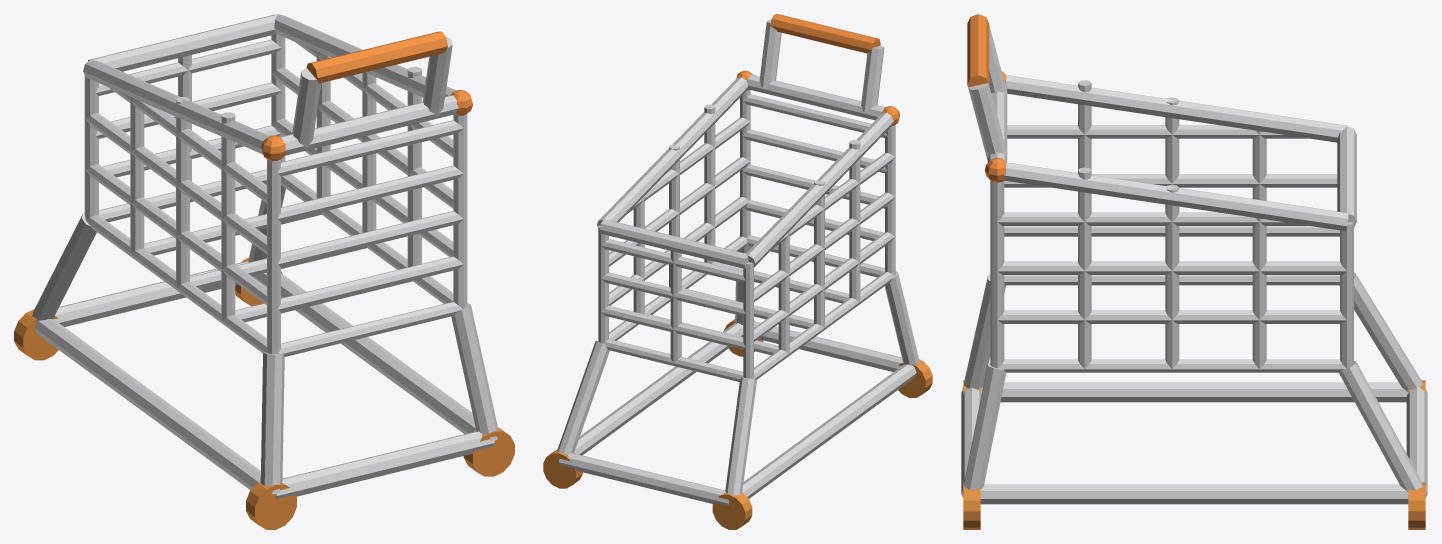
The model's file is Shopping Cart.fbx.
3 views of the same model, side by side, from view 1: azimuth 30°, elevation 25°; view 2: azimuth 150°, elevation 25°; view 3: azimuth 270°, elevation 25° (orthographic). The views are drawn at different scales.
Parts seen in each view (by area): view 1: ChL, ChR, ChBk, RimL, RimF, HBar, RimBk, SdH, FlS, SdH.001, Leg2, Leg3 (+35 smaller); view 2: ChL, RimL, RimR, ChR, ChF, RimF, Leg0, Leg1, RimBk, ChBk, HBar, SdH.001 (+35 smaller); view 3: ChR, ChL, RimR, RimL, FlS.001, SdH.003, SdH.004, SdH.005, SdH.002, FlS, SdH, Leg1 (+21 smaller).
Part boxes in pixels (x1=…): ChL: x1=35, y1=319, x2=260, y2=489; ChR: x1=253, y1=272, x2=475, y2=433; ChBk: x1=276, y1=431, x2=494, y2=499; RimL: x1=83, y1=60, x2=269, y2=154; RimF: x1=88, y1=14, x2=276, y2=71; HBar: x1=306, y1=31, x2=447, y2=83; RimBk: x1=280, y1=95, x2=458, y2=155; SdH: x1=86, y1=164, x2=267, y2=304; FlS: x1=86, y1=215, x2=267, y2=353; SdH.001: x1=86, y1=113, x2=267, y2=253; Leg2: x1=260, y1=352, x2=284, y2=494; Leg3: x1=451, y1=303, x2=498, y2=440; ChL: x1=742, y1=364, x2=916, y2=498; RimL: x1=746, y1=112, x2=894, y2=267; RimR: x1=597, y1=77, x2=748, y2=227; ChR: x1=574, y1=323, x2=743, y2=455; ChF: x1=559, y1=453, x2=728, y2=505; RimF: x1=599, y1=219, x2=748, y2=268; Leg0: x1=725, y1=377, x2=756, y2=499; Leg1: x1=557, y1=340, x2=609, y2=458; RimBk: x1=747, y1=75, x2=884, y2=120; ChBk: x1=754, y1=321, x2=902, y2=371; HBar: x1=770, y1=14, x2=880, y2=53; SdH.001: x1=753, y1=192, x2=894, y2=301; ChR: x1=980, y1=484, x2=1408, y2=504; ChL: x1=980, y1=382, x2=1407, y2=402; RimR: x1=1003, y1=162, x2=1348, y2=231; RimL: x1=1005, y1=75, x2=1348, y2=142; FlS.001: x1=998, y1=359, x2=1345, y2=372; SdH.003: x1=997, y1=310, x2=1346, y2=323; SdH.004: x1=997, y1=261, x2=1346, y2=274; SdH.005: x1=997, y1=212, x2=1346, y2=225; SdH.002: x1=1007, y1=125, x2=1346, y2=138; FlS: x1=1004, y1=275, x2=1339, y2=285; SdH: x1=1004, y1=226, x2=1339, y2=236; Leg1: x1=1339, y1=361, x2=1425, y2=491.
Size of the model in its own units: 90.62 by 150 by 147.
